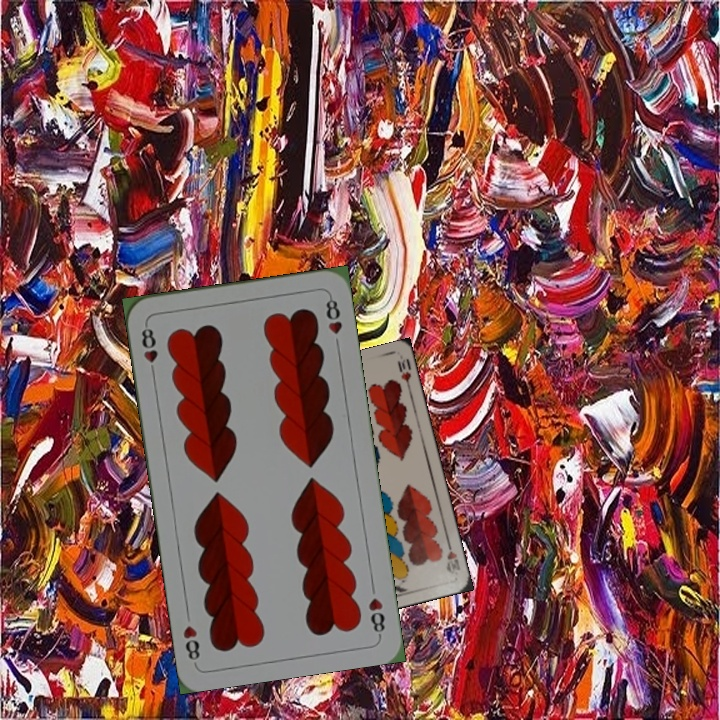H10: (442, 537, 463, 577)
H8: (137, 320, 160, 379), (364, 593, 388, 639)
